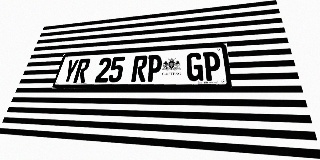2: (94, 57, 112, 83)
5: (108, 57, 125, 82)
G: (187, 52, 203, 81)
P: (203, 51, 222, 81), (146, 54, 162, 82)
R: (131, 55, 148, 82), (73, 58, 91, 83)
Y: (61, 59, 79, 83)
